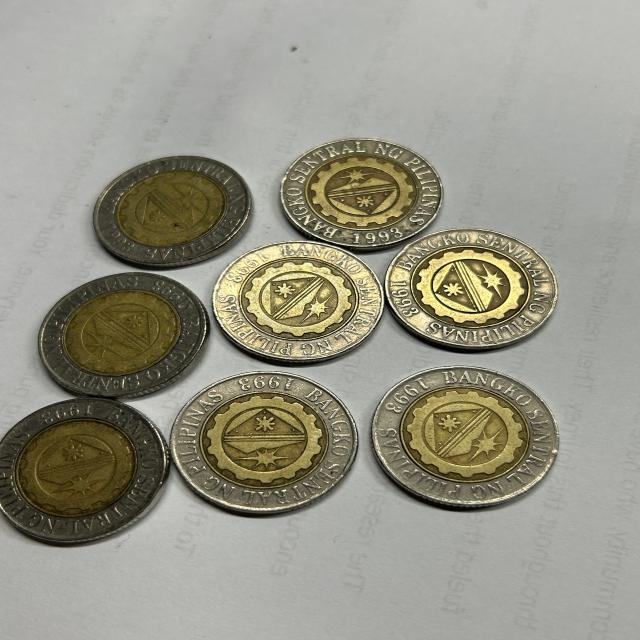10_Old_Back: (178, 382, 350, 496), (390, 370, 553, 488), (3, 403, 159, 526), (46, 273, 194, 392), (402, 237, 550, 346), (93, 158, 240, 252), (286, 141, 432, 232), (235, 250, 367, 348)
